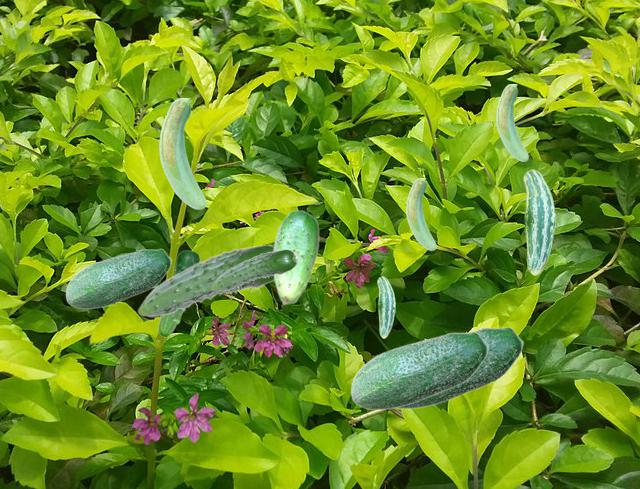cucumber: (350, 331, 488, 409), (400, 326, 523, 408), (137, 244, 272, 316), (65, 248, 171, 308), (159, 98, 205, 208), (272, 209, 318, 304), (157, 250, 199, 336), (211, 249, 298, 290), (523, 169, 554, 274), (496, 84, 527, 160), (406, 178, 435, 249), (377, 276, 394, 337)
